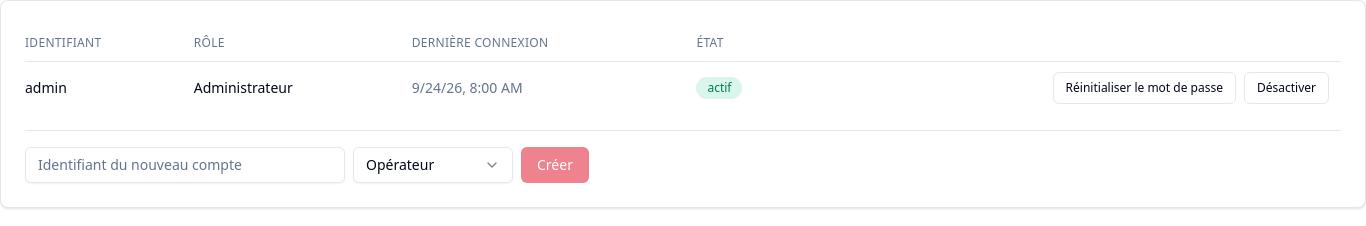
AccountsScreen › exige une confirmation avant de désactiver un compte
The width and height of the screenshot is (1366, 226).
Expected: the text "admin" is shown, [25,61,182,114]
Click the button "Désactiver". click: (1286, 88)
box: [1244,72,1329,104]
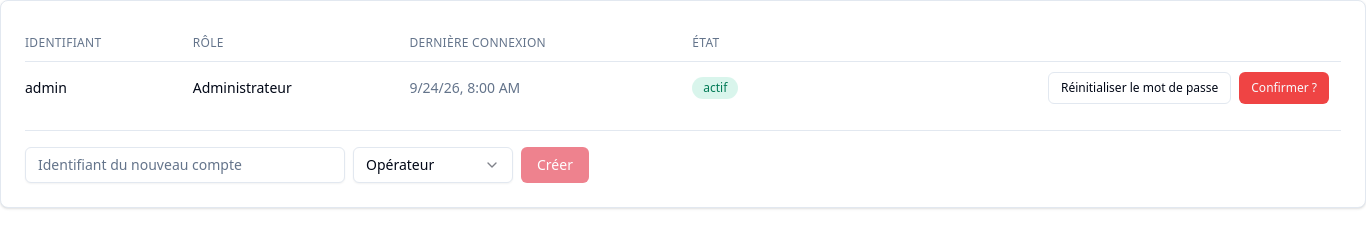
Result: the button "Confirmer ?" is shown at [1239,72,1329,104]
